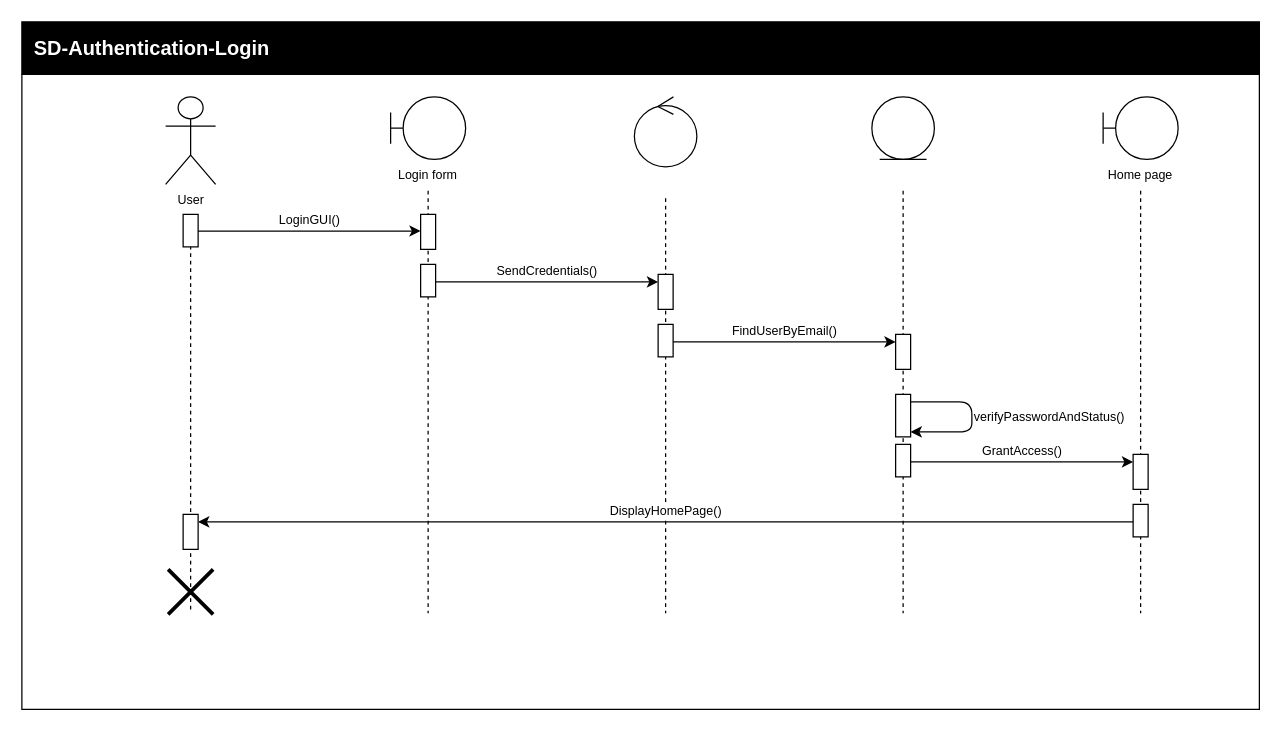
The diagram is 1281 pixels wide and 731 high, and some of its shapes have lost their labels. The shapes that lost their labels are listed below. From the top down, each one's centre as x and y in pixels, then its label:
At pixel 665 131: "Verify credentials".
At pixel 902 127: "DB".
